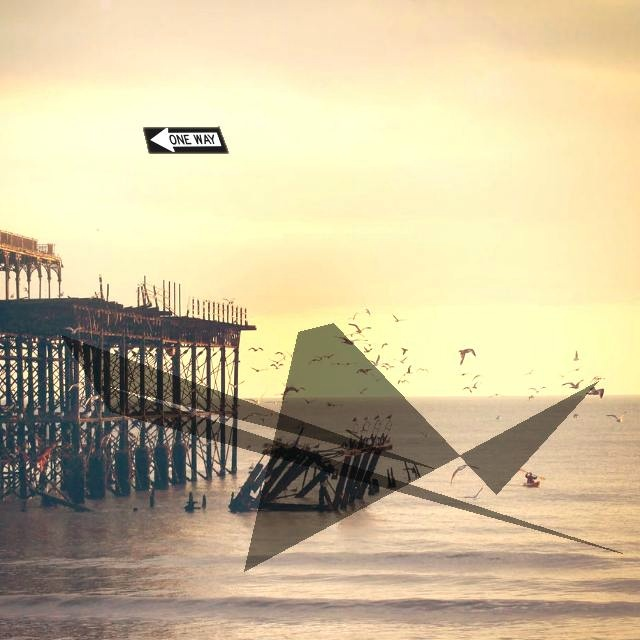ONE_WAY_ left: (142, 126, 229, 154)
